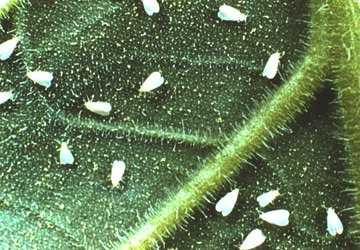whitefly: (216, 186, 239, 218), (82, 96, 112, 120), (137, 71, 165, 96), (24, 68, 54, 91), (218, 3, 249, 25), (257, 207, 289, 227), (260, 51, 280, 82), (324, 206, 344, 237), (53, 137, 75, 165), (238, 227, 265, 249), (108, 160, 125, 192), (1, 36, 20, 64), (256, 189, 282, 209)
